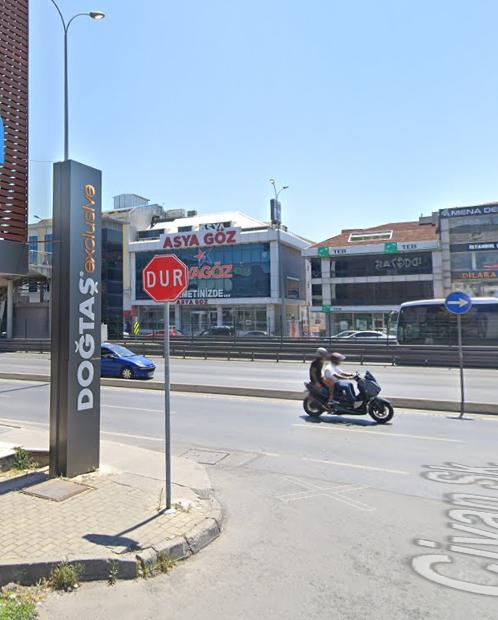stop: (142, 255, 186, 300)
turnright: (445, 292, 472, 314)
